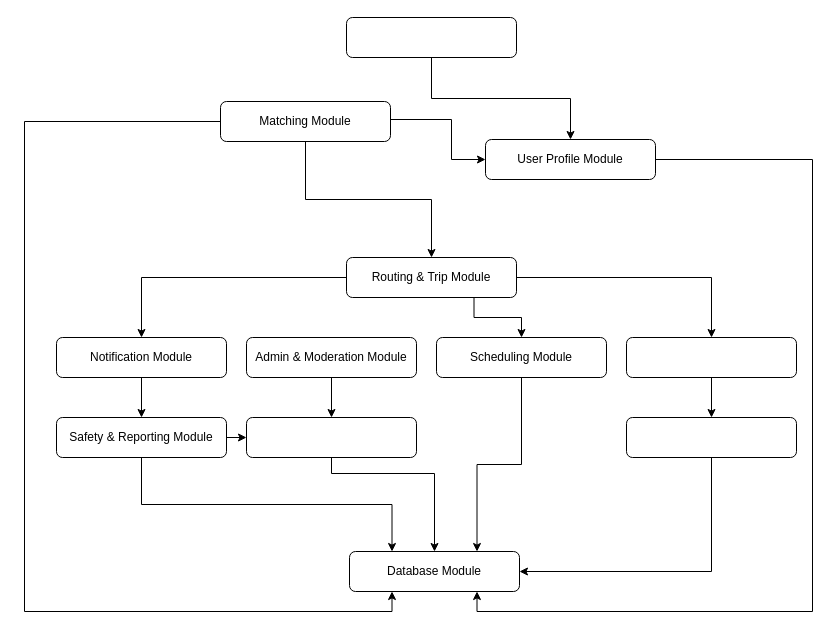
The diagram is 838 pixels wide and 637 high, and some of its shapes have lost their labels. Here are the shapes that lost their labels. From the top down, the box of each, then its label:
(346, 16, 516, 58): Authentication/Verification Module
(626, 336, 796, 378): Payment & Cost Estimation Module
(246, 416, 416, 458): Rating & Feedback Module
(626, 416, 796, 458): Pricing Module
